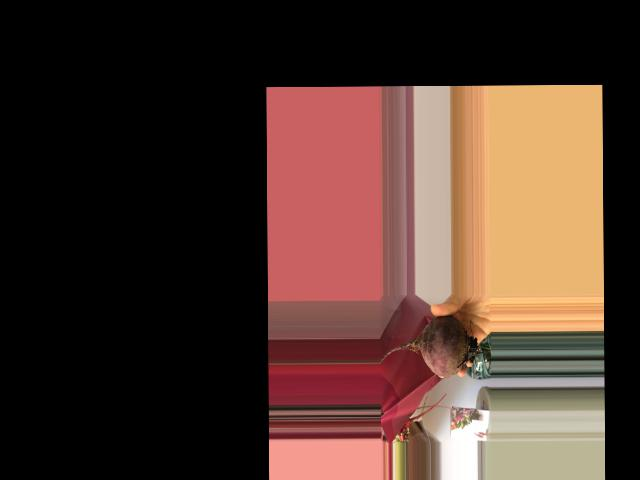beet: (380, 315, 491, 378)
